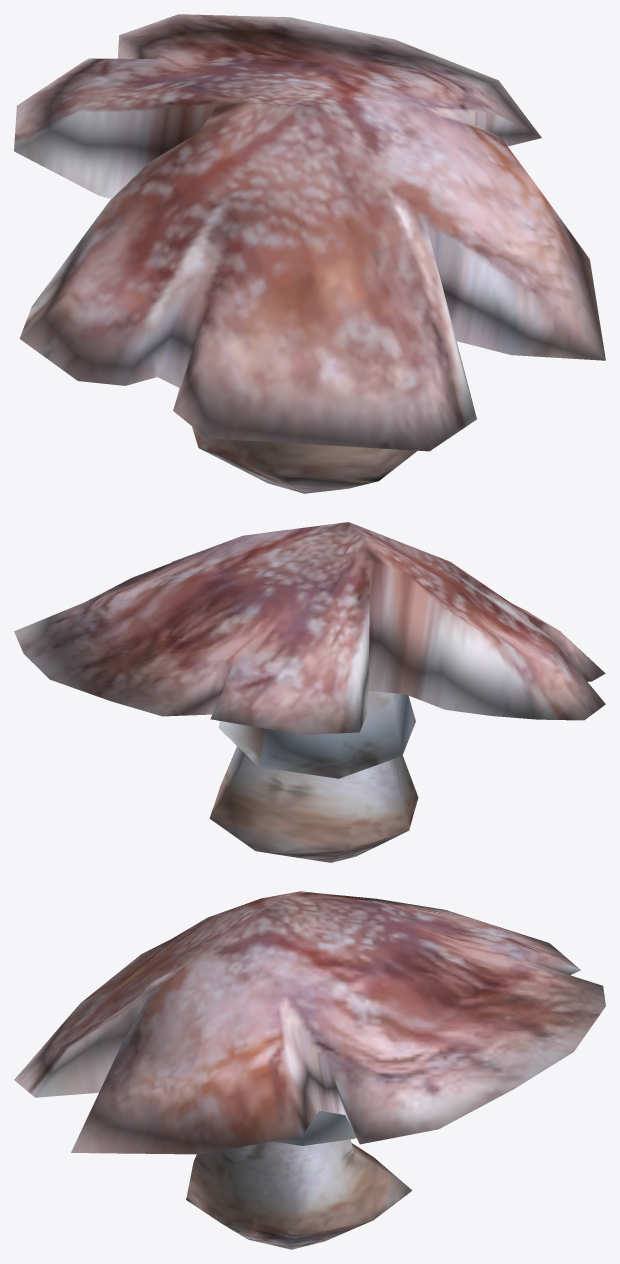
File: SM_TOADSTOOL_13.FBX
3 views of the same model, one above another, from view 1: azimuth 30°, elevation 25°; view 2: azimuth 150°, elevation 25°; view 3: azimuth 270°, elevation 25° (orthographic). The views are drawn at different scales.
Parts seen in each view (by area): view 1: SM_TOADSTOOL_13; view 2: SM_TOADSTOOL_13; view 3: SM_TOADSTOOL_13.
Boxes of the visible parts, bbox=[...] form: SM_TOADSTOOL_13: bbox=[14, 14, 605, 493]; SM_TOADSTOOL_13: bbox=[14, 522, 605, 862]; SM_TOADSTOOL_13: bbox=[14, 891, 605, 1249].
Bounding box in the file's own units: 15.14 × 16.32 × 9.53.
